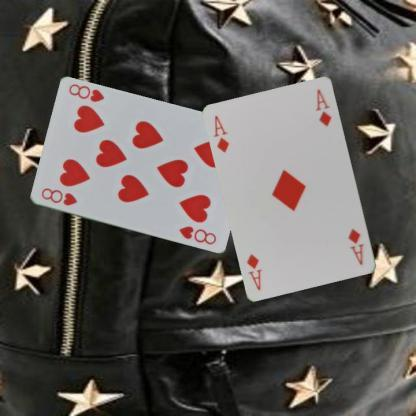8h: (38, 186, 79, 208)
Ad: (210, 113, 230, 154), (346, 226, 366, 266)
